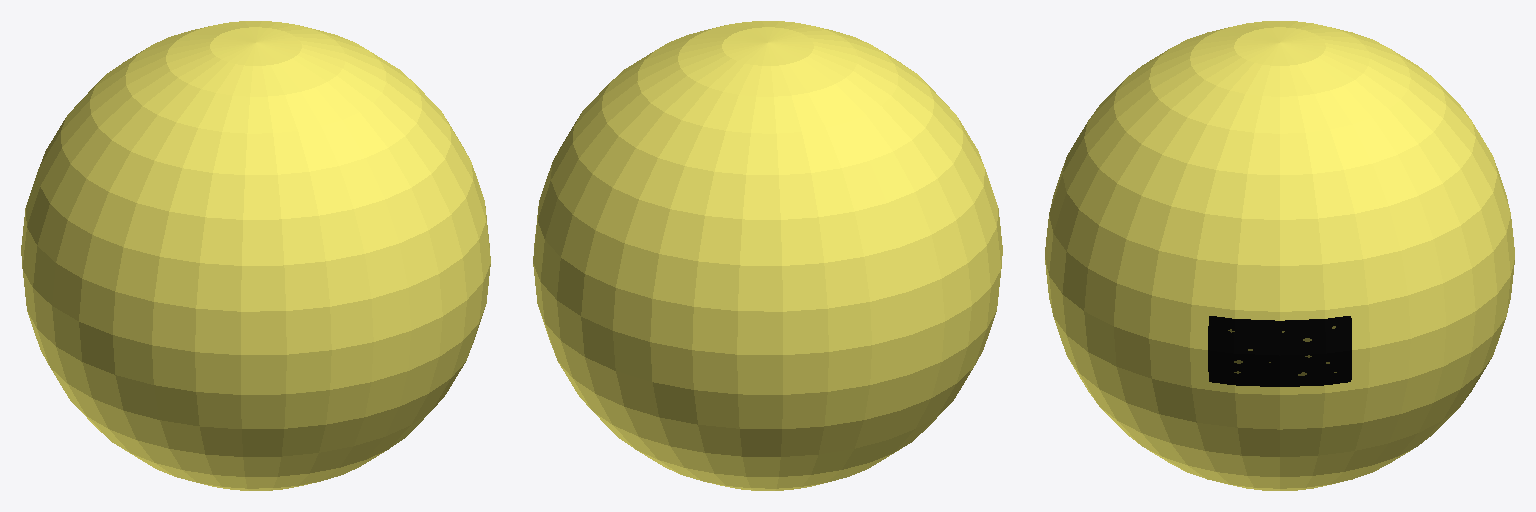
3 views of the same model, side by side, from view 1: azimuth 30°, elevation 25°; view 2: azimuth 150°, elevation 25°; view 3: azimuth 270°, elevation 25° (orthographic).
Parts seen in each view (by area): view 1: 球; view 2: 球; view 3: 球.
Part boxes in pixels (x1,y1,x2,y2): 球: (21,21,490,490); 球: (533,21,1002,490); 球: (1045,21,1514,490).
Bounding box in the file's own units: 306 × 306 × 306.
1 materials, 1 textured.